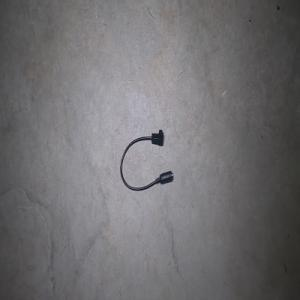Wire: (120, 129, 173, 191)
